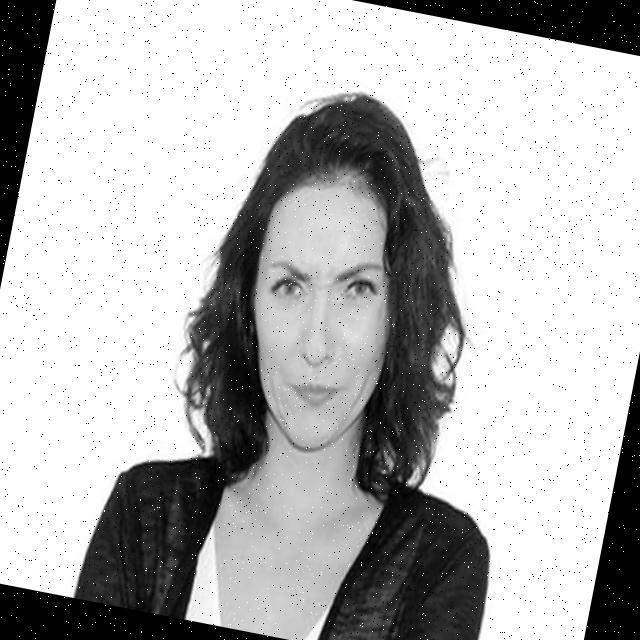Disgust: (218, 165, 424, 468)
